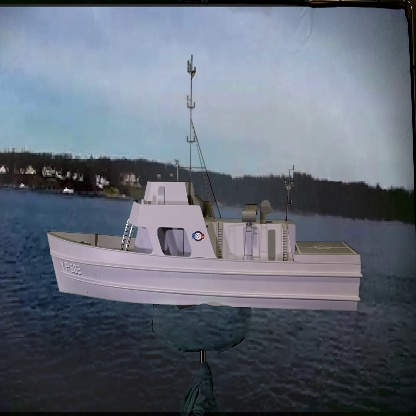YP689: (41, 51, 365, 315)
